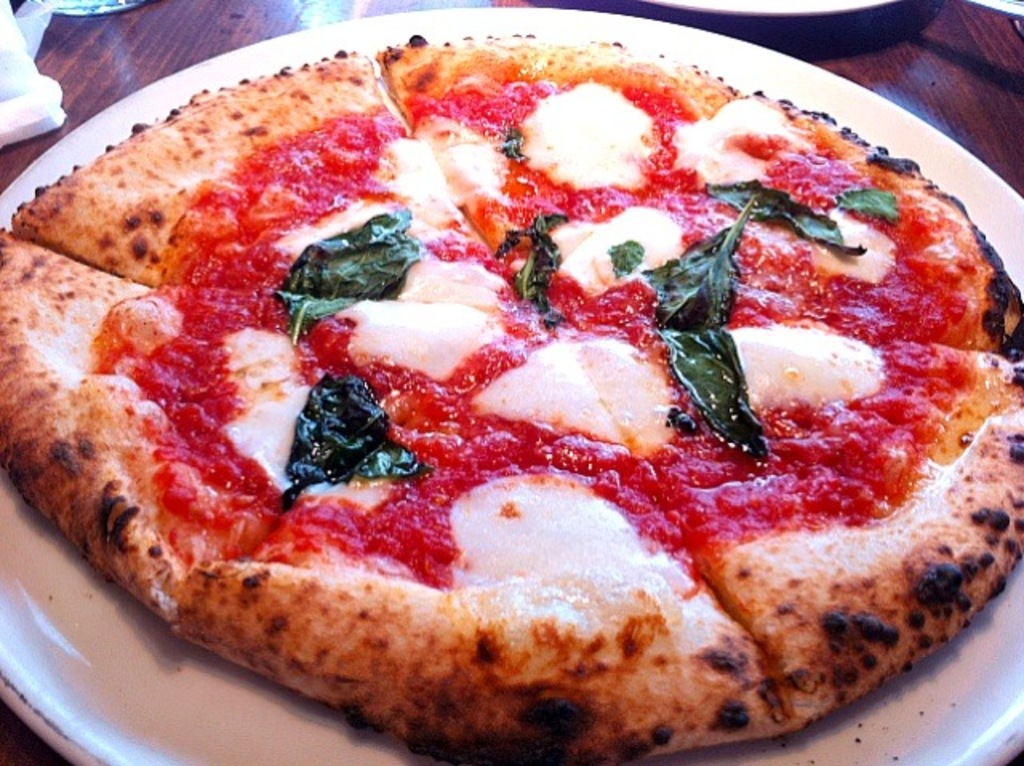Pizza: (0, 36, 1014, 761)
